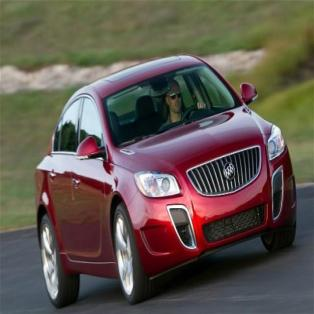Auto: (34, 53, 299, 306)
